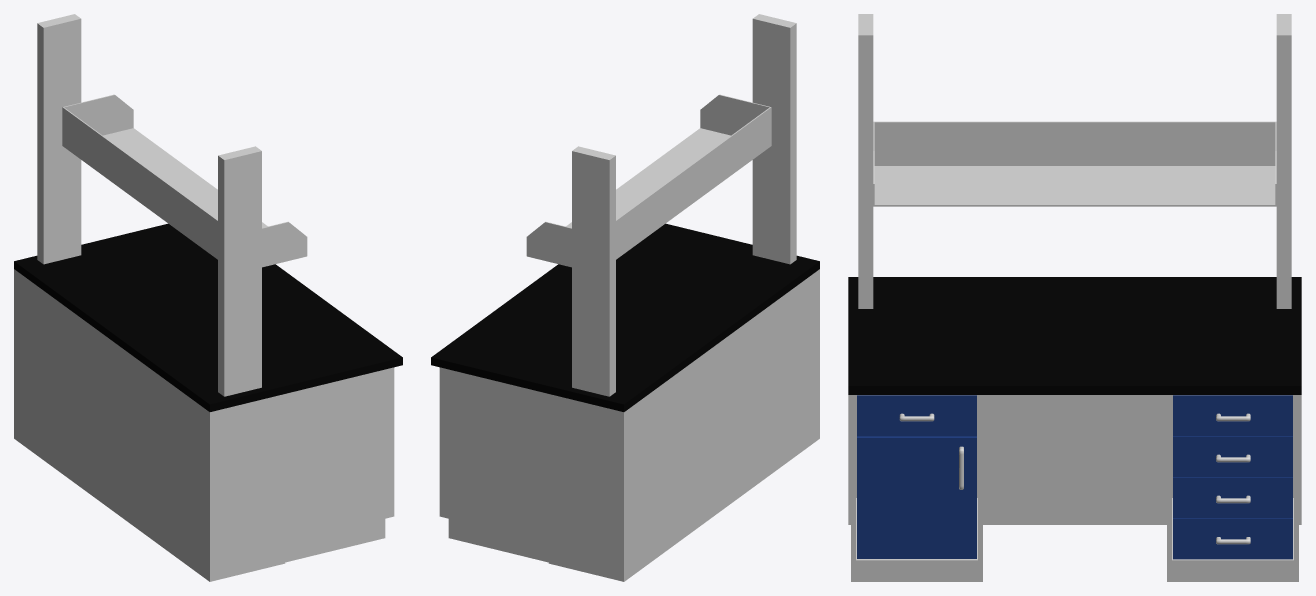
Rendered from Mueble A.dae.
3 views of the same model, side by side, from view 1: azimuth 30°, elevation 25°; view 2: azimuth 150°, elevation 25°; view 3: azimuth 270°, elevation 25° (orthographic). The views are drawn at different scales.
Visible parts, largest first — view 1: Furniture A, Cube.001; view 2: Furniture A, Cube.001; view 3: Furniture A, Cube.001.
Boxes of the visible parts, x1,y1,x2,y2 form: Furniture A: (14,14,402,581); Cube.001: (285,367,394,562); Furniture A: (431,14,819,581); Cube.001: (439,367,548,562); Furniture A: (848,14,1301,524); Cube.001: (851,395,1298,581).
Size of the model in its own units: 1.04 by 1.83 by 2.13.
